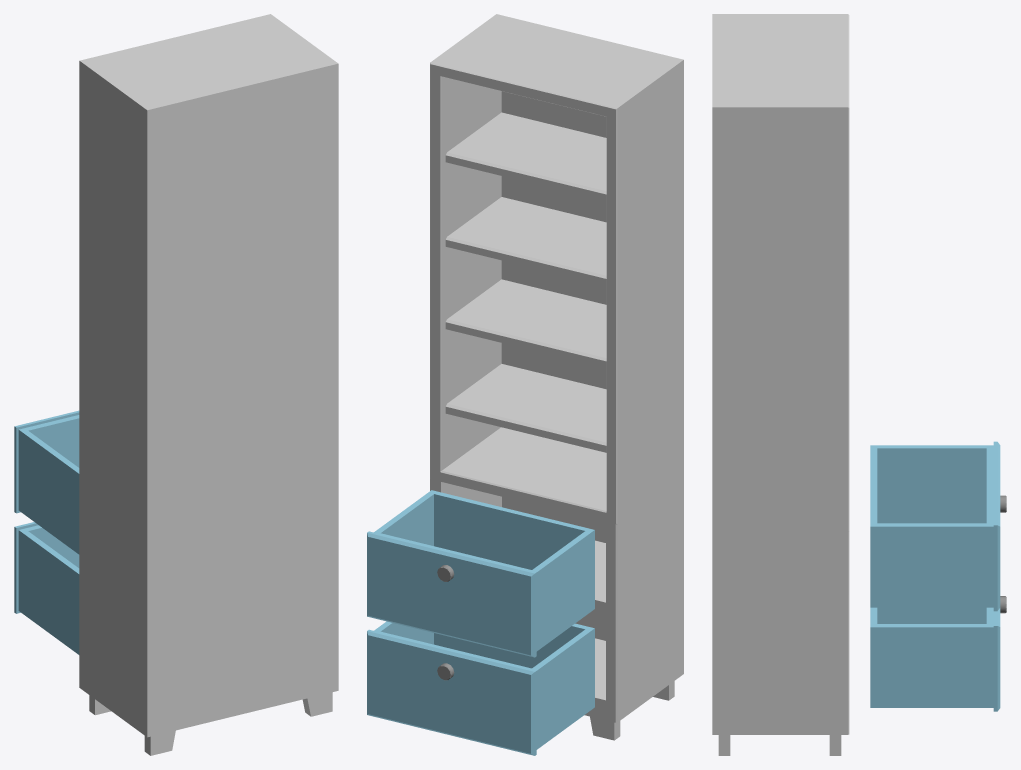
Rendered from FURNITURE_shelf_01.FBX.
3 views of the same model, side by side, from view 1: azimuth 30°, elevation 25°; view 2: azimuth 150°, elevation 25°; view 3: azimuth 270°, elevation 25° (orthographic). The views are drawn at different scales.
Visible parts, largest first — view 1: FURNITURE_shelf_01_base, FURNITURE_shelf_01_drawer_01_inside, FURNITURE_shelf_01_drawer_02_inside; view 2: FURNITURE_shelf_01_base, FURNITURE_shelf_01_drawer_01, FURNITURE_shelf_01_drawer_02, FURNITURE_shelf_01_drawer_01_inside, FURNITURE_shelf_01_drawer_02_inside, FURNITURE_shelf_01_inside; view 3: FURNITURE_shelf_01_base, FURNITURE_shelf_01_drawer_01_inside, FURNITURE_shelf_01_drawer_02_inside, FURNITURE_shelf_01_drawer_01, FURNITURE_shelf_01_drawer_02.
Part boxes in pixels (x1,y1,x2,y2): FURNITURE_shelf_01_base: [79, 14, 338, 755]; FURNITURE_shelf_01_drawer_01_inside: [16, 412, 79, 554]; FURNITURE_shelf_01_drawer_02_inside: [16, 523, 79, 654]; FURNITURE_shelf_01_base: [430, 14, 683, 740]; FURNITURE_shelf_01_drawer_01: [367, 531, 536, 657]; FURNITURE_shelf_01_drawer_02: [367, 629, 536, 755]; FURNITURE_shelf_01_drawer_01_inside: [374, 490, 594, 651]; FURNITURE_shelf_01_drawer_02_inside: [374, 621, 594, 749]; FURNITURE_shelf_01_inside: [441, 482, 605, 700]; FURNITURE_shelf_01_base: [712, 14, 849, 755]; FURNITURE_shelf_01_drawer_01_inside: [870, 445, 993, 607]; FURNITURE_shelf_01_drawer_02_inside: [870, 607, 993, 707]; FURNITURE_shelf_01_drawer_01: [993, 441, 1006, 611]; FURNITURE_shelf_01_drawer_02: [993, 596, 1006, 711].
Size of the model in its own units: 76.51 by 248 by 102.
